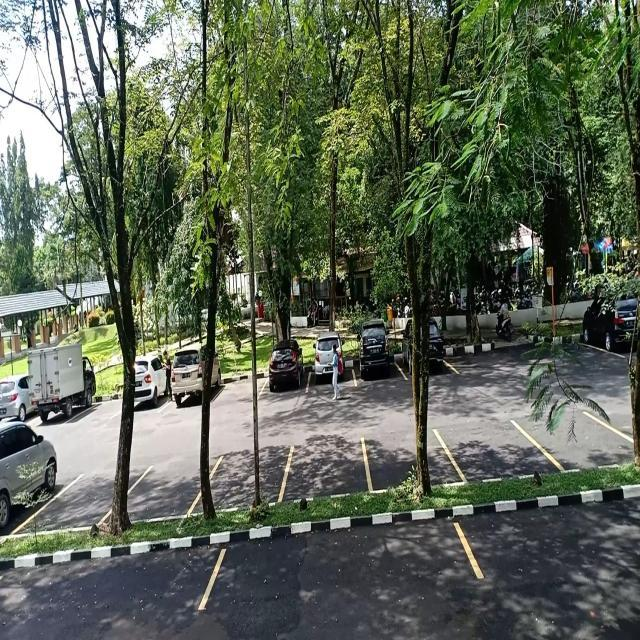empty: (252, 543, 517, 622), (8, 554, 262, 635), (527, 404, 634, 469), (449, 417, 542, 480), (209, 445, 292, 512), (285, 438, 369, 504), (360, 431, 457, 488), (39, 472, 115, 535), (128, 460, 201, 524), (217, 366, 260, 403)
occupied: (261, 345, 308, 397), (355, 336, 400, 387), (307, 342, 354, 388)
